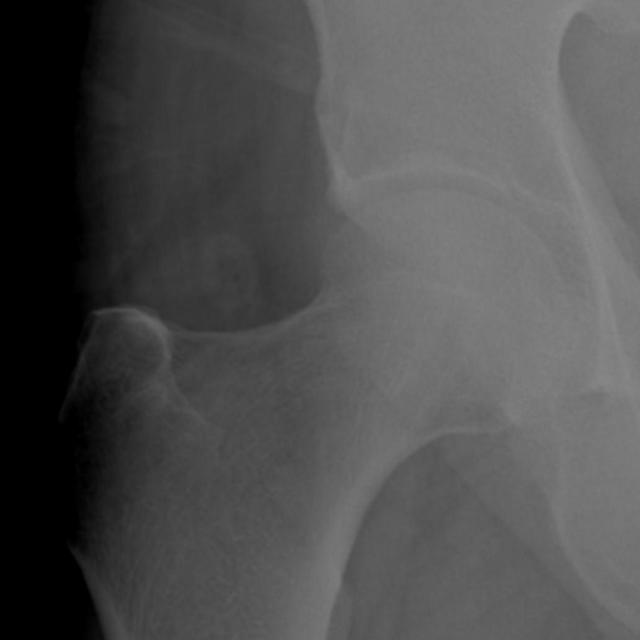Fitted_femural_head: (274, 187, 432, 274)
